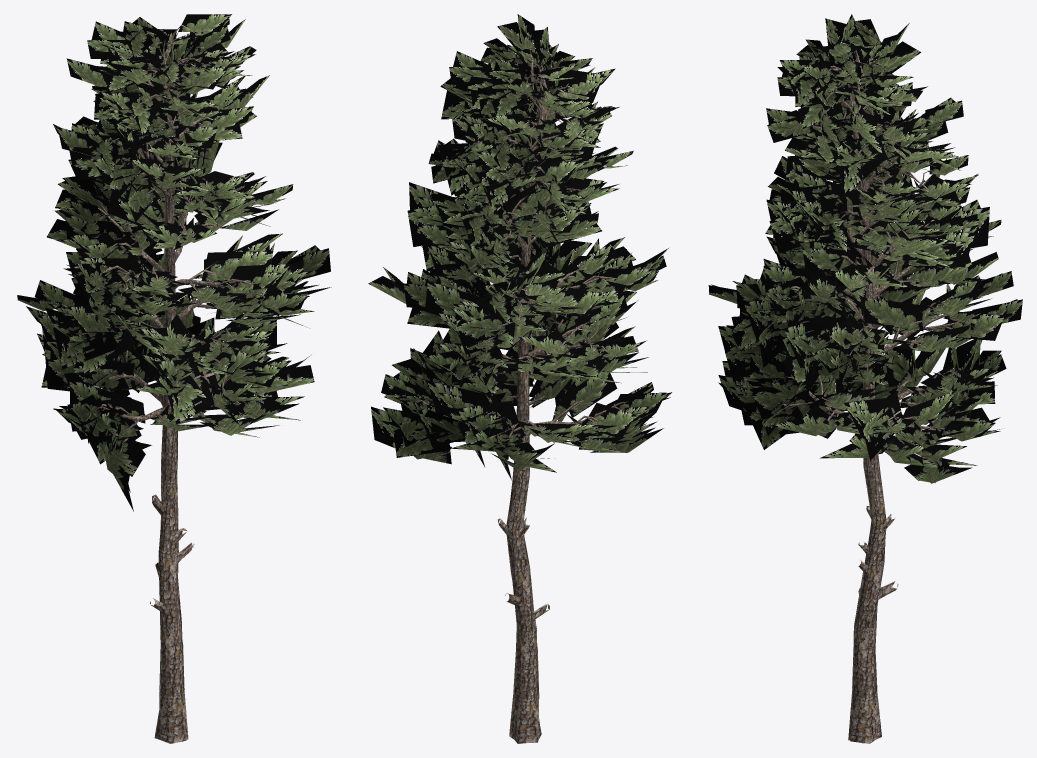
File: Conifer_Desktop 1-transformed.glb
The picture shows the model from 3 angles, left to right: view 1: azimuth 30°, elevation 25°; view 2: azimuth 150°, elevation 25°; view 3: azimuth 270°, elevation 25°; orthographic projection. The views are drawn at different scales.
Parts seen in each view (by area): view 1: Conifer_Desktop_LOD0; view 2: Conifer_Desktop_LOD0; view 3: Conifer_Desktop_LOD0.
Boxes of the visible parts, x1,y1,x2,y2 form: Conifer_Desktop_LOD0: (17, 14, 331, 743); Conifer_Desktop_LOD0: (368, 14, 671, 743); Conifer_Desktop_LOD0: (708, 14, 1022, 743).
Size of the model in its own units: 12.4 by 29.78 by 12.03.
2 materials, 2 textured.
